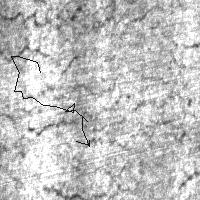crazing: (1, 45, 127, 147), (18, 95, 182, 157), (1, 6, 147, 65), (11, 56, 89, 146), (54, 1, 177, 37)
